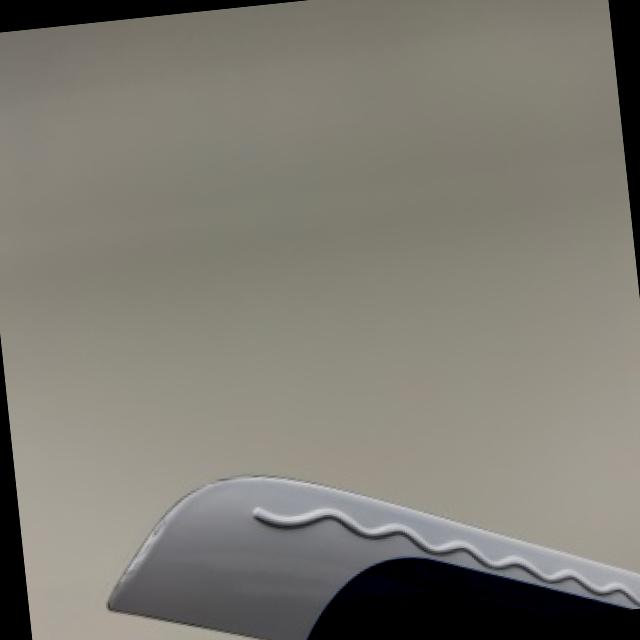healthy: (111, 474, 640, 640)
